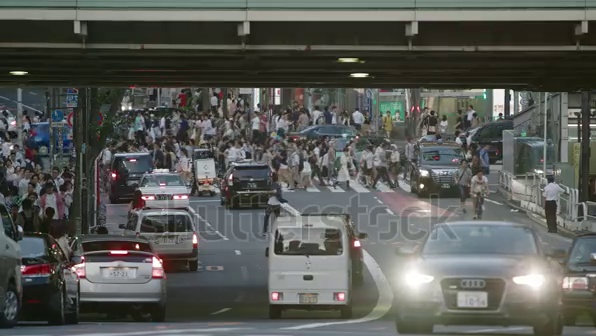licenseplate: (457, 291, 492, 311)
